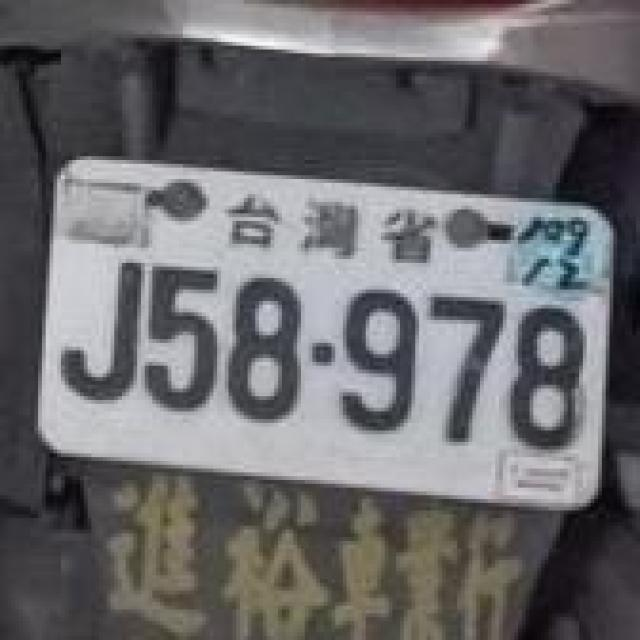W: (19, 152, 617, 514)
